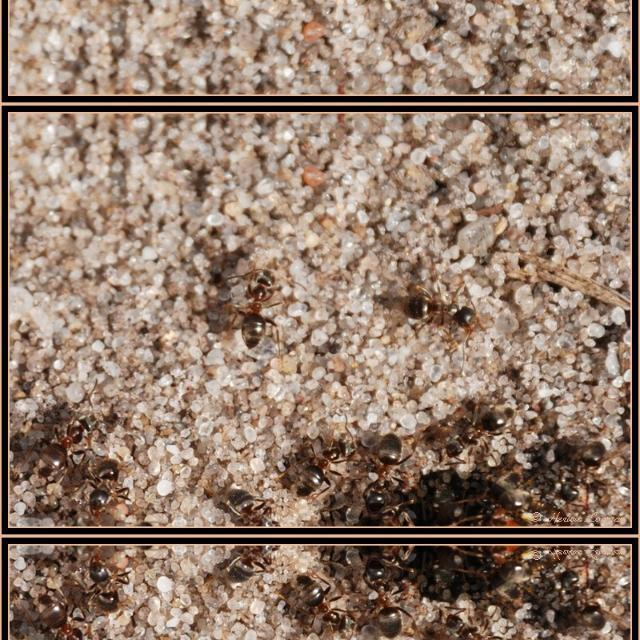Lasius: (392, 266, 514, 358), (432, 388, 536, 466), (228, 254, 296, 358), (282, 418, 366, 496), (280, 574, 366, 640), (22, 413, 110, 473), (361, 416, 417, 504), (71, 448, 135, 522), (71, 549, 135, 623), (361, 566, 417, 640), (432, 604, 536, 640), (556, 432, 614, 496), (556, 575, 614, 639), (22, 598, 108, 640), (219, 476, 281, 532), (219, 540, 281, 594)
